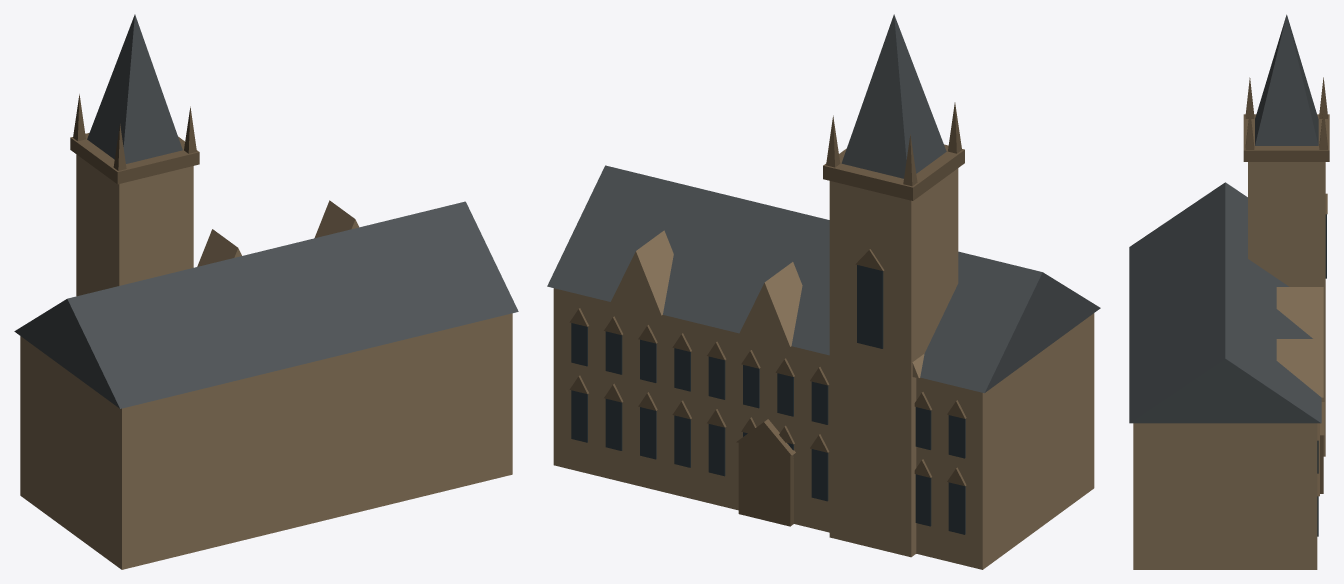
The model's file is manchester.glb.
The picture shows the model from 3 angles, left to right: view 1: azimuth 30°, elevation 25°; view 2: azimuth 150°, elevation 25°; view 3: azimuth 270°, elevation 25°; orthographic projection. The views are drawn at different scales.
Visible parts, largest first — view 1: manchester; view 2: manchester; view 3: manchester.
Part boxes in pixels (x1,y1,x2,y2): manchester: (14,14,518,569); manchester: (547,14,1100,569); manchester: (1129,14,1329,569).
Size of the model in its own units: 20.4 by 23 by 9.8.
